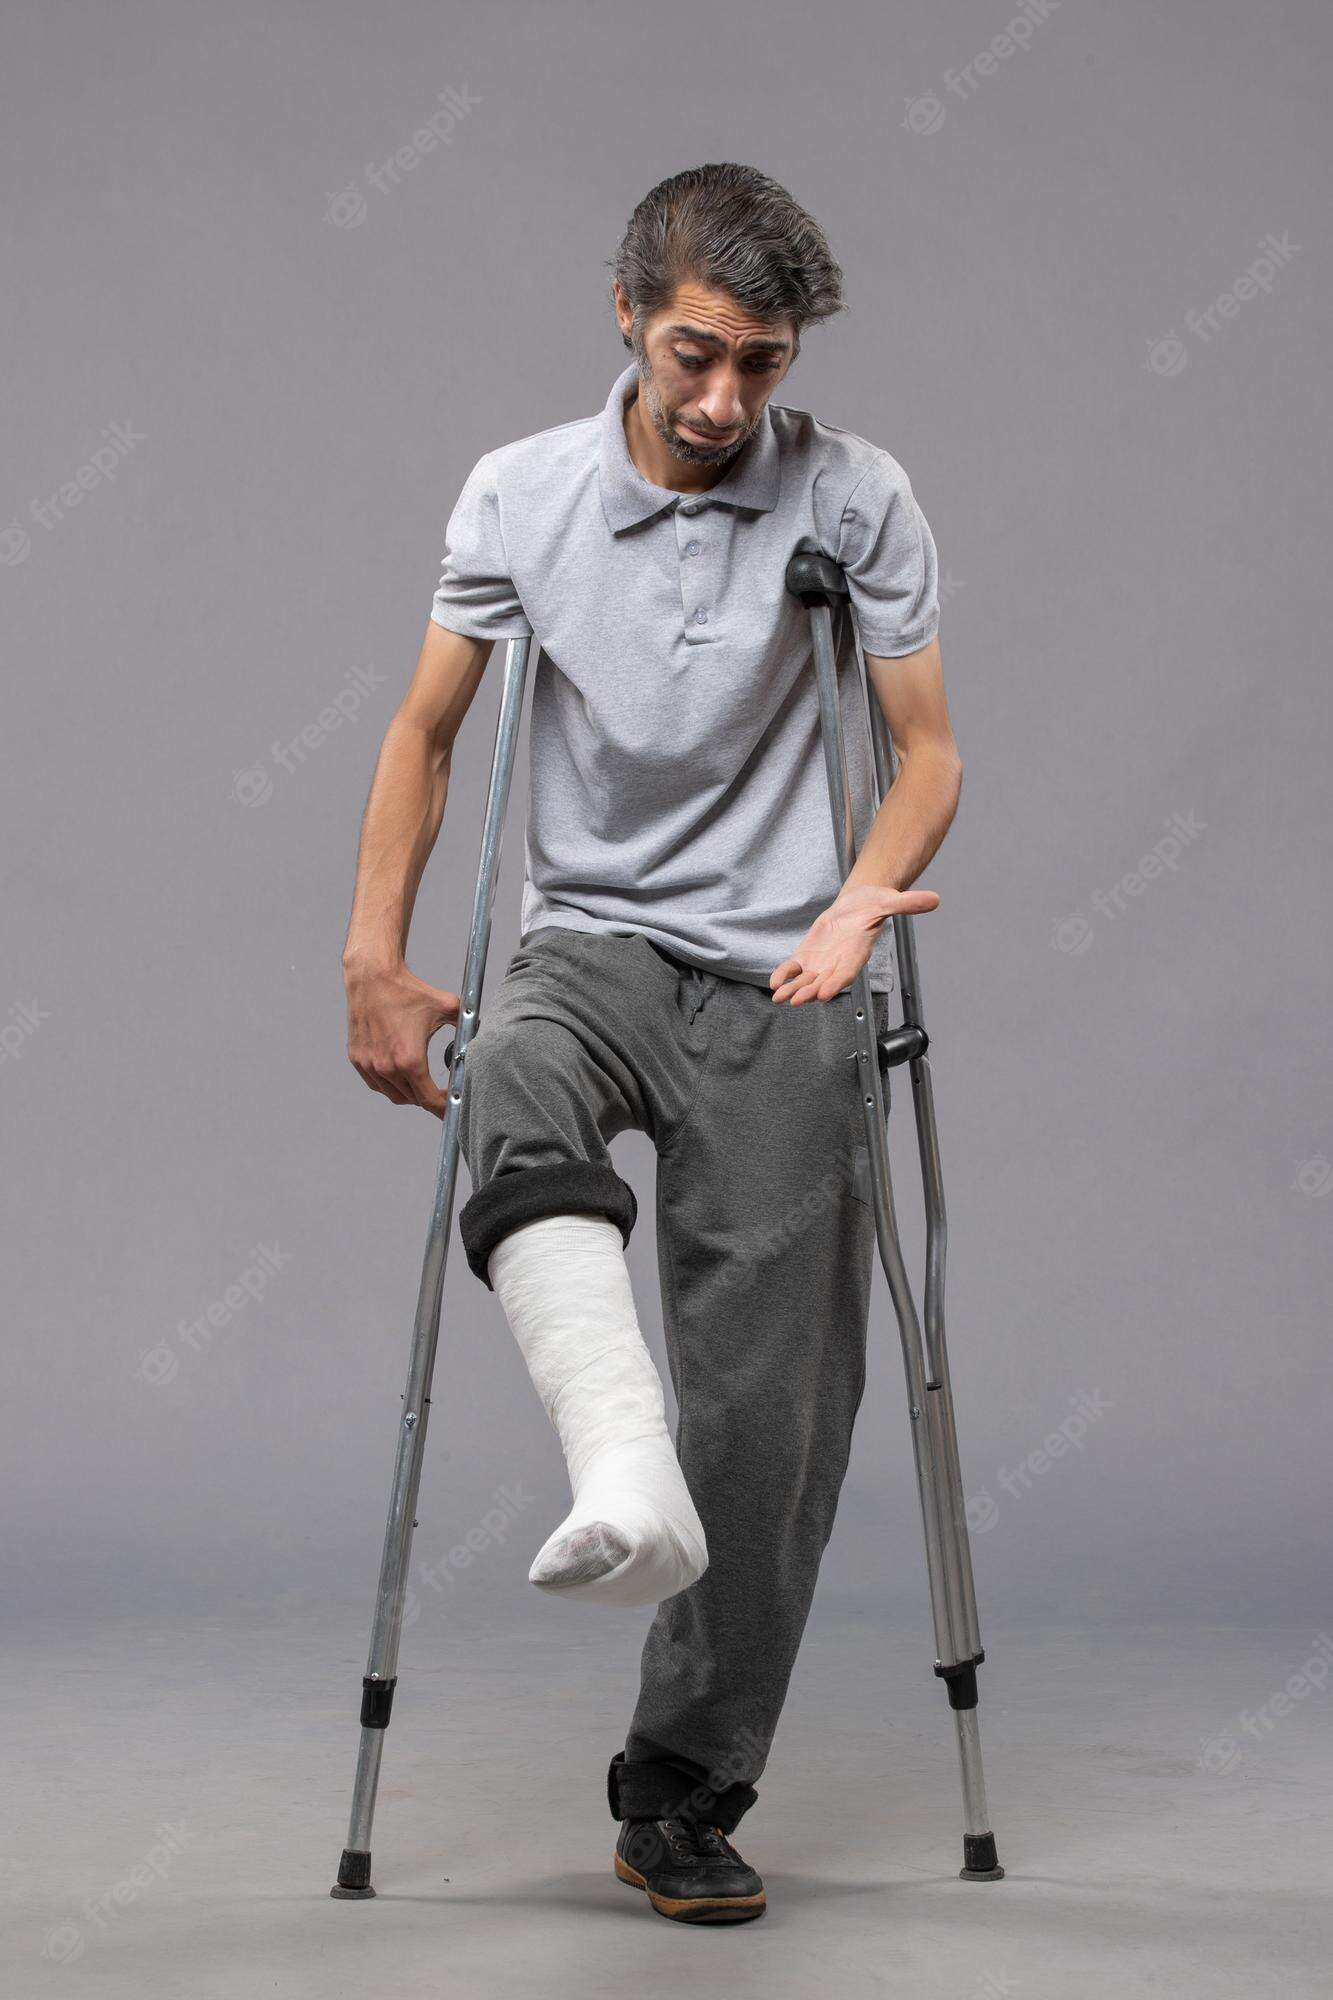crutches: (324, 161, 1012, 1917)
